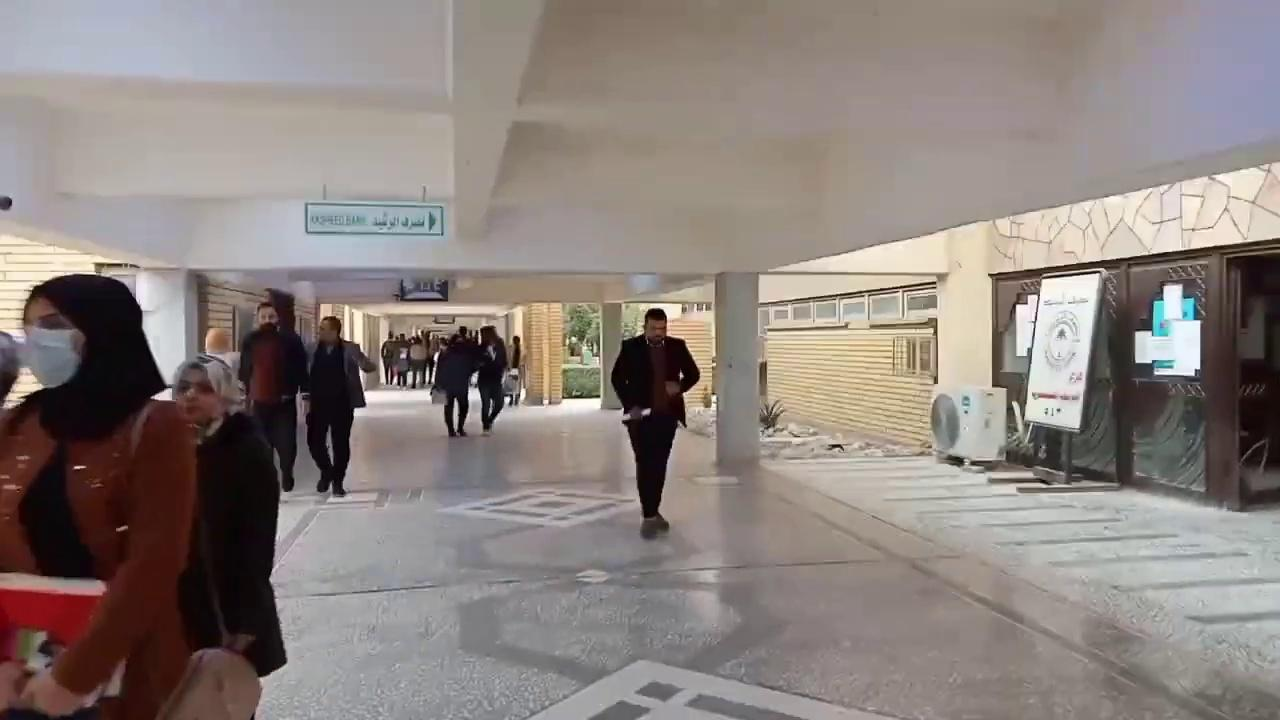person: (0, 272, 199, 718), (170, 356, 287, 718), (610, 307, 700, 528), (238, 289, 309, 492), (306, 315, 376, 496), (425, 328, 481, 436), (474, 329, 513, 436)
